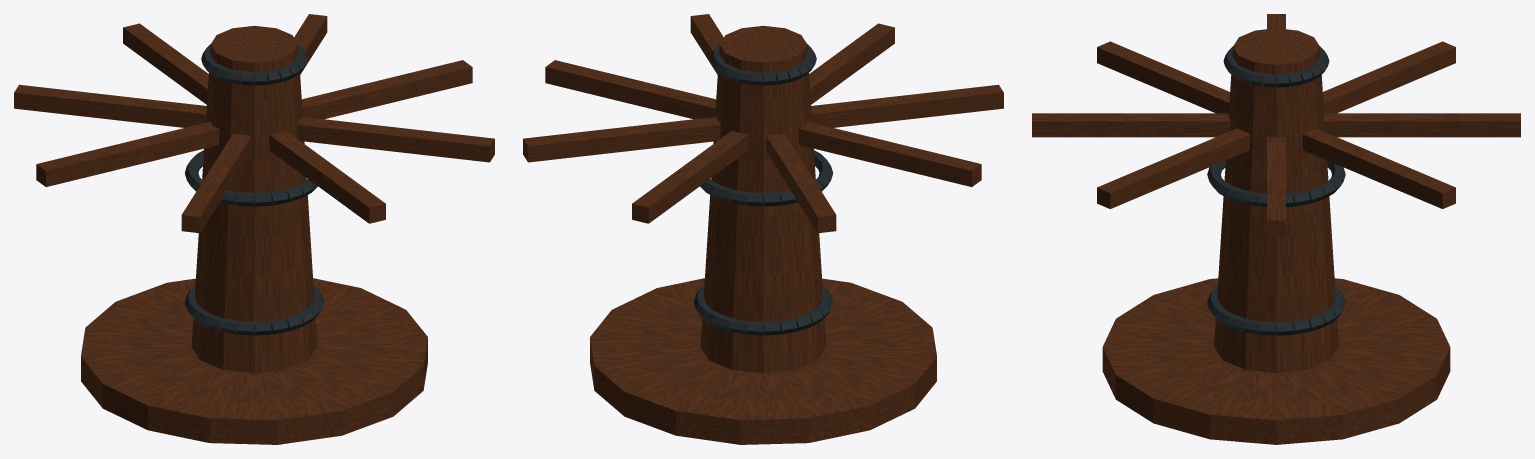
Rendered from SM_capstan.gltf.
3 renders of one model, left to right at view 1: azimuth 30°, elevation 25°; view 2: azimuth 150°, elevation 25°; view 3: azimuth 270°, elevation 25°, orthographic.
Parts seen in each view (by area): view 1: capstan, root; view 2: capstan, root; view 3: capstan, root.
Boxes of the visible parts, x1=… form: capstan: x1=14, y1=14, x2=494, y2=373; root: x1=81, y1=278, x2=427, y2=444; capstan: x1=523, y1=14, x2=1003, y2=373; root: x1=590, y1=278, x2=936, y2=444; capstan: x1=1032, y1=14, x2=1520, y2=373; root: x1=1102, y1=278, x2=1450, y2=444.
Bounding box in the file's own units: 1.8 × 1.32 × 1.8.
Materials: 2 (2 with a texture image).
